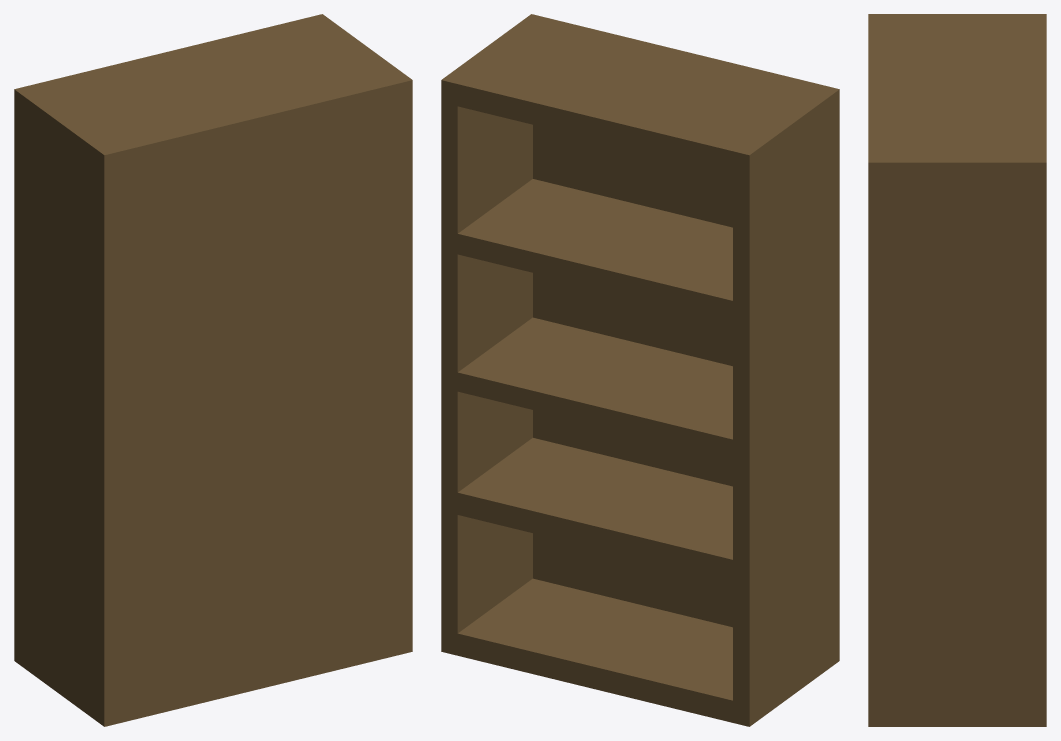
Rendered from bookshelf.fbx.
3 views of the same model, side by side, from view 1: azimuth 30°, elevation 25°; view 2: azimuth 150°, elevation 25°; view 3: azimuth 270°, elevation 25° (orthographic).
Parts seen in each view (by area): view 1: Bookshelf; view 2: Bookshelf; view 3: Bookshelf.
Part boxes in pixels (left/top/right/bottom): Bookshelf: left=14, top=14, right=412, bottom=726; Bookshelf: left=441, top=14, right=839, bottom=726; Bookshelf: left=868, top=14, right=1046, bottom=726.
Size of the model in its own units: 98.41 by 174 by 49.9.
